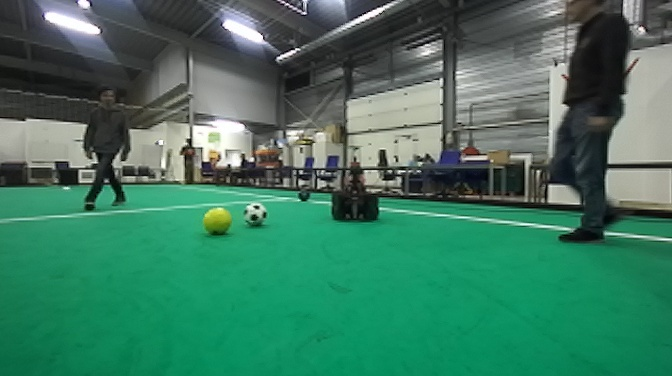ball: (202, 205, 232, 233), (241, 202, 268, 227), (297, 189, 311, 202)
human: (553, 4, 630, 250), (79, 88, 135, 214)
robot: (329, 143, 383, 221)
